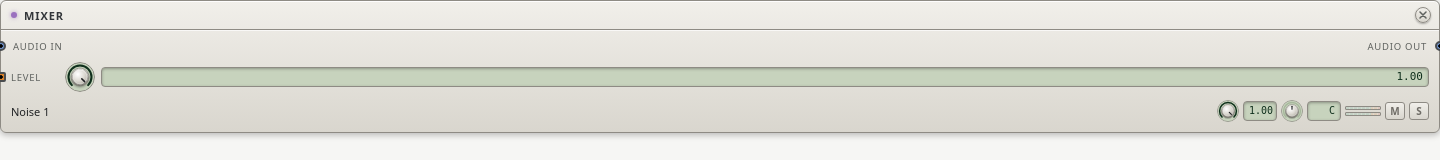
ModuleNode pinned mixer › pins the whole mixer to perform from the menu of a right click on a channel, and marks its channels
The image size is (1440, 160).
Right-click the slider named "level" at (1228, 111), box [1217, 100, 1239, 122]
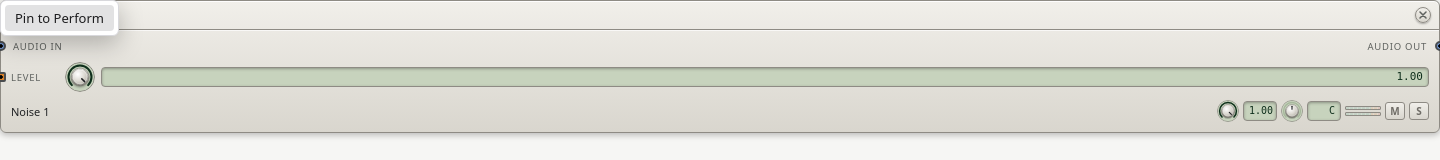
Click the menu item "Pin to Perform" at (60, 18), box [5, 5, 114, 31]
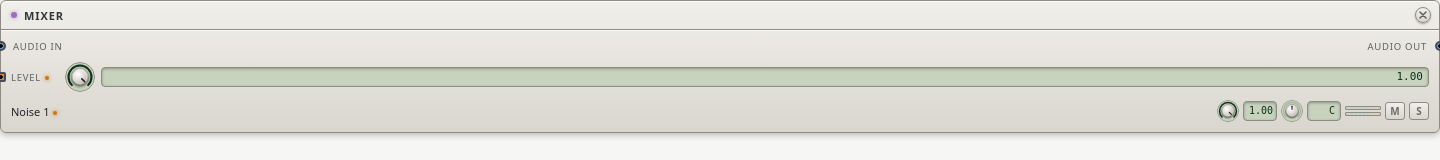
Expected: the list item with class "mixer-channel-pinned" is shown, [11, 100, 1429, 122]
